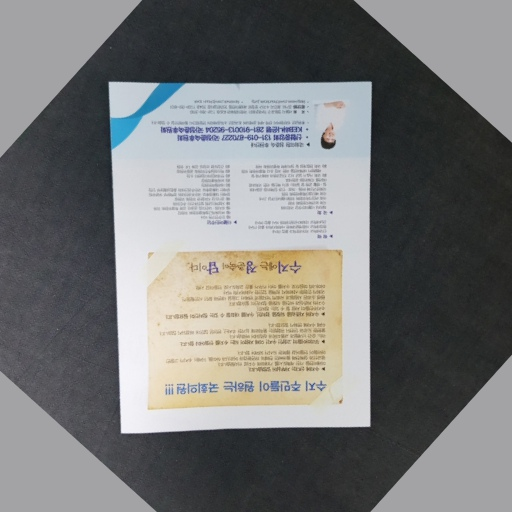Paper_2: (101, 73, 397, 437)
